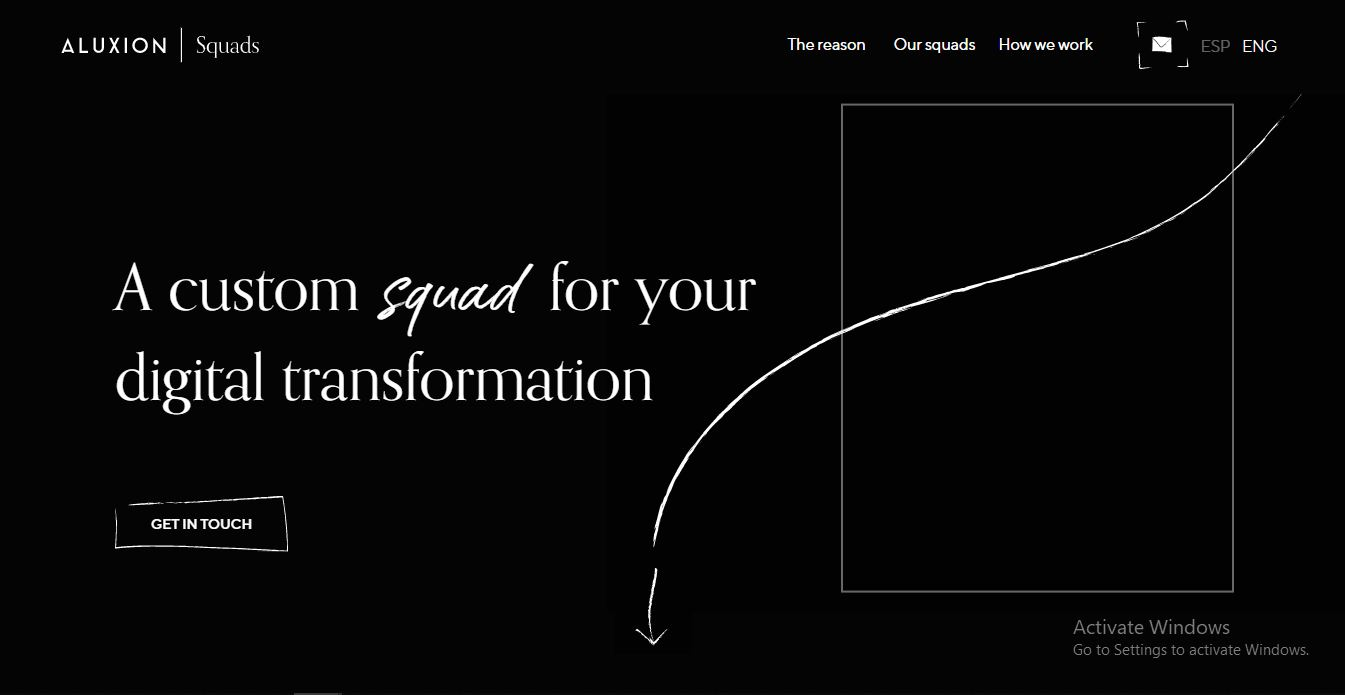Button: (115, 494, 296, 564)
Menu Bar: (774, 12, 1109, 78)
